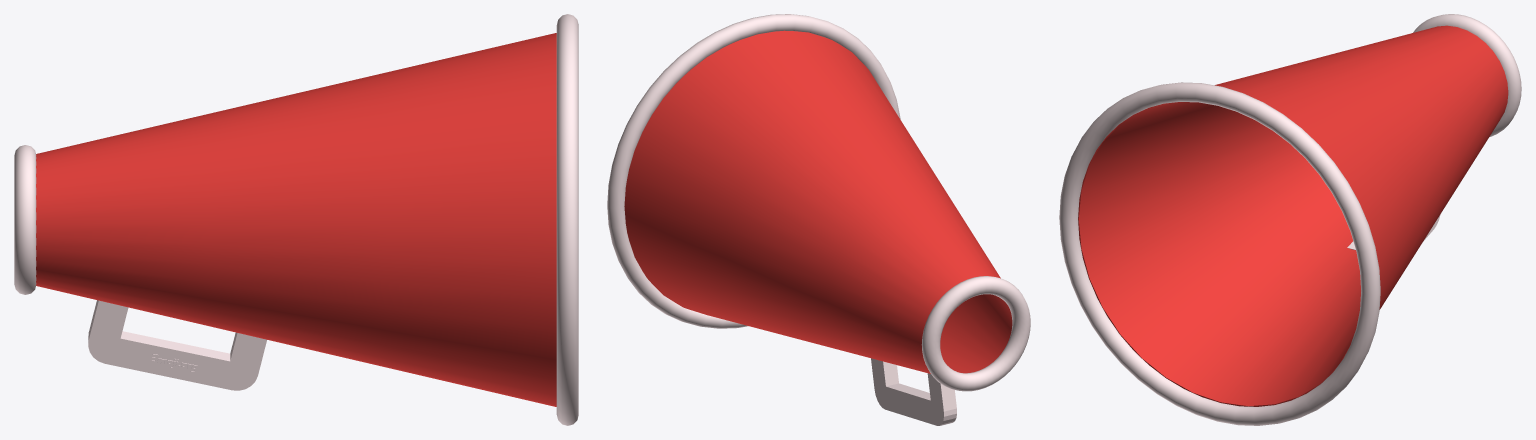
The model's file is megaphone.fbx.
3 views of the same model, side by side, from view 1: azimuth 30°, elevation 25°; view 2: azimuth 150°, elevation 25°; view 3: azimuth 270°, elevation 25° (orthographic). The views are drawn at different scales.
Visible parts, largest first — view 1: Torus.009; view 2: Torus.009; view 3: Torus.009.
Boxes of the visible parts, x1=… form: Torus.009: x1=14, y1=14, x2=578, y2=425; Torus.009: x1=607, y1=14, x2=1030, y2=425; Torus.009: x1=1059, y1=14, x2=1521, y2=425.
Size of the model in its own units: 234 by 156 by 195.
Materials: 1 (1 with a texture image).
